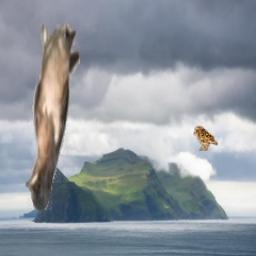Sparrow: (194, 126, 219, 151)
Swallow: (27, 25, 81, 211)
